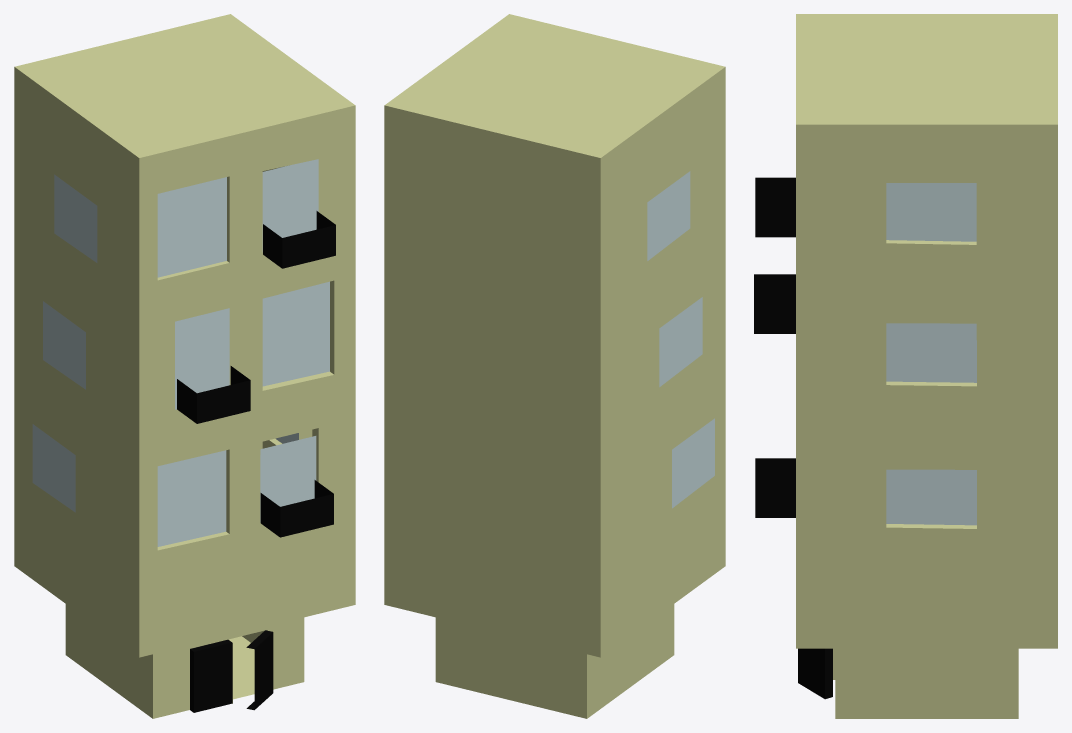
File: flatbeigefbx.fbx
The picture shows the model from 3 angles, left to right: view 1: azimuth 30°, elevation 25°; view 2: azimuth 150°, elevation 25°; view 3: azimuth 270°, elevation 25°; orthographic projection. The views are drawn at different scales.
Parts seen in each view (by area): view 1: Cube, Cube.005, Cube.004, Cube.006, Cube.014, Cube.013, Cube.012, Cube.007, Cube.017, Cube.015, Cube.016, Cube.002 (+3 smaller); view 2: Cube, Cube.016, Cube.015, Cube.017; view 3: Cube, Cube.010, Cube.009, Cube.011, Cube.002, Cube.001, Cube.003, Cube.008.
Boxes of the visible parts, left/top/right/bottom form: Cube: left=14, top=14, right=355, bottom=718; Cube.005: left=262, top=281, right=329, bottom=386; Cube.004: left=157, top=177, right=226, bottom=277; Cube.006: left=157, top=450, right=226, bottom=546; Cube.014: left=175, top=308, right=229, bottom=409; Cube.013: left=262, top=159, right=318, bottom=251; Cube.012: left=260, top=436, right=316, bottom=522; Cube.007: left=190, top=639, right=232, bottom=712; Cube.017: left=32, top=424, right=75, bottom=512; Cube.015: left=54, top=174, right=97, bottom=262; Cube.016: left=43, top=301, right=85, bottom=389; Cube.002: left=177, top=366, right=250, bottom=423; Cube: left=384, top=14, right=725, bottom=718; Cube.016: left=659, top=297, right=702, bottom=387; Cube.015: left=647, top=171, right=690, bottom=260; Cube.017: left=672, top=418, right=714, bottom=508; Cube: left=796, top=14, right=1057, bottom=718; Cube.010: left=886, top=323, right=976, bottom=382; Cube.009: left=886, top=183, right=976, bottom=241; Cube.011: left=886, top=469, right=976, bottom=525; Cube.002: left=754, top=274, right=795, bottom=333; Cube.001: left=755, top=177, right=795, bottom=237; Cube.003: left=755, top=458, right=795, bottom=517; Cube.008: left=798, top=648, right=832, bottom=699.
Bounding box in the file's own units: 598 × 1368 × 617.
